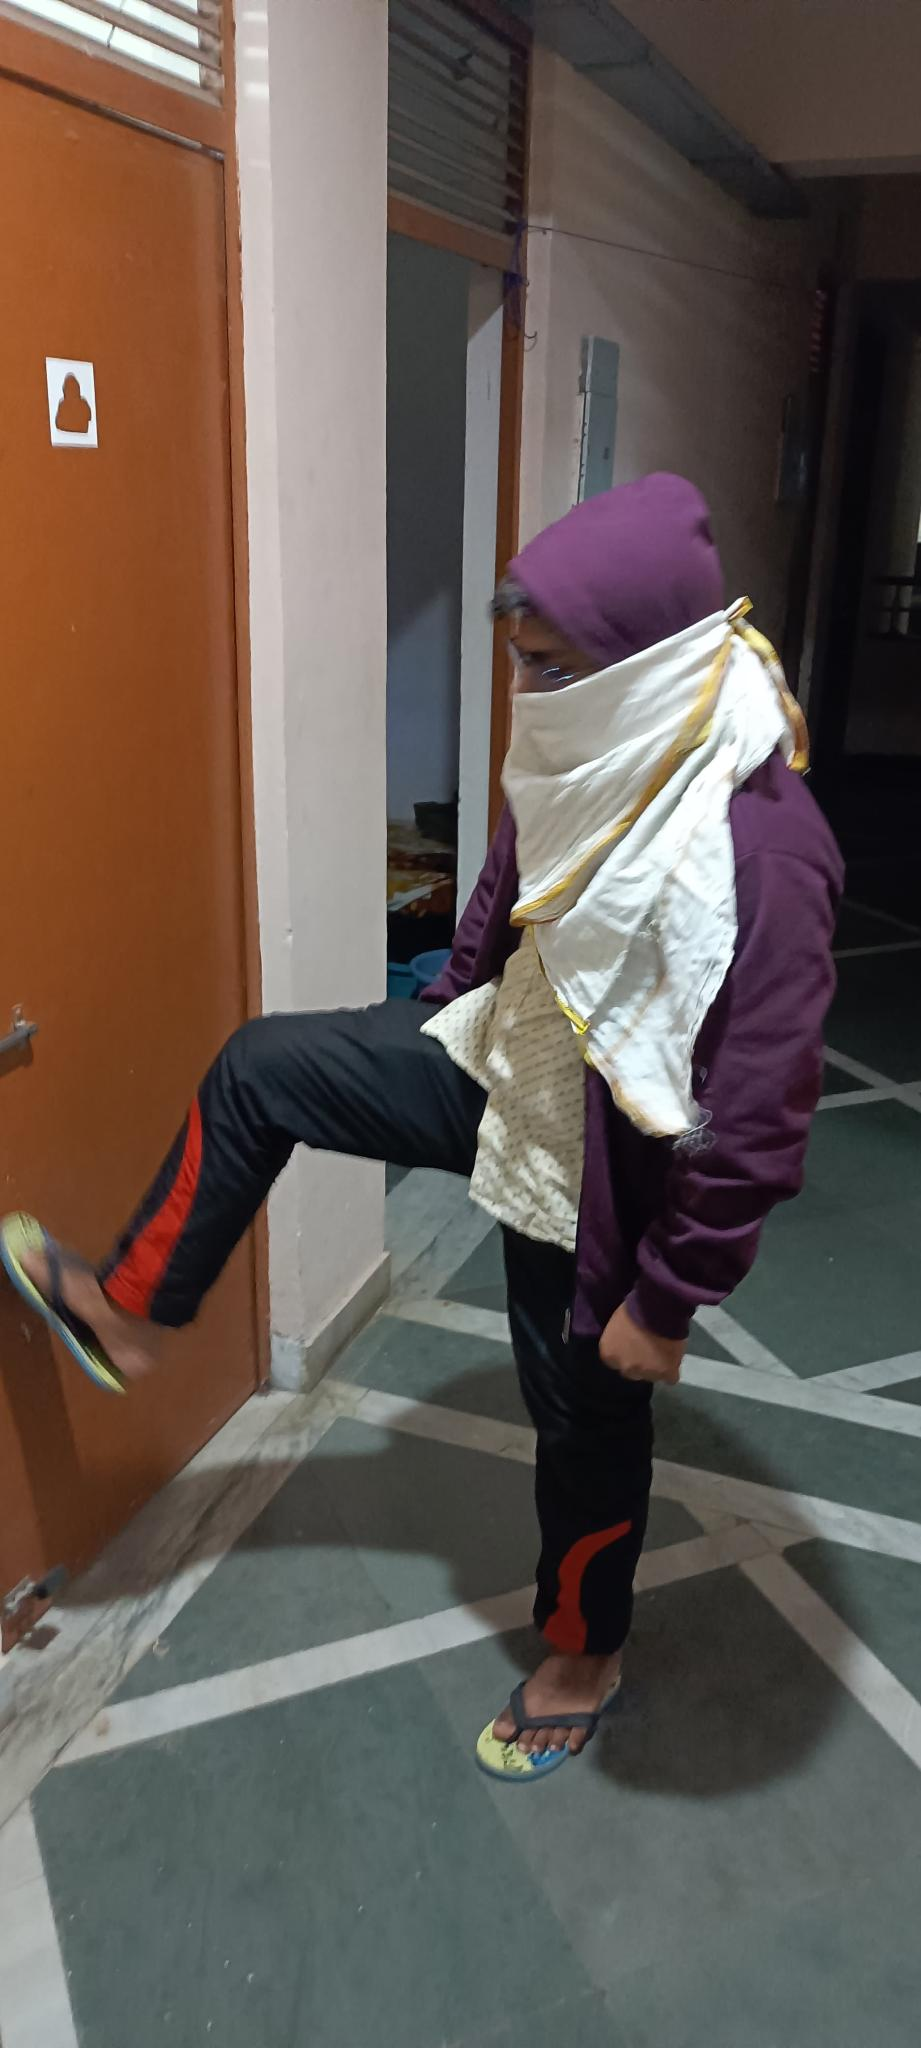suspicion: (0, 448, 911, 1796), (251, 375, 861, 1876)
